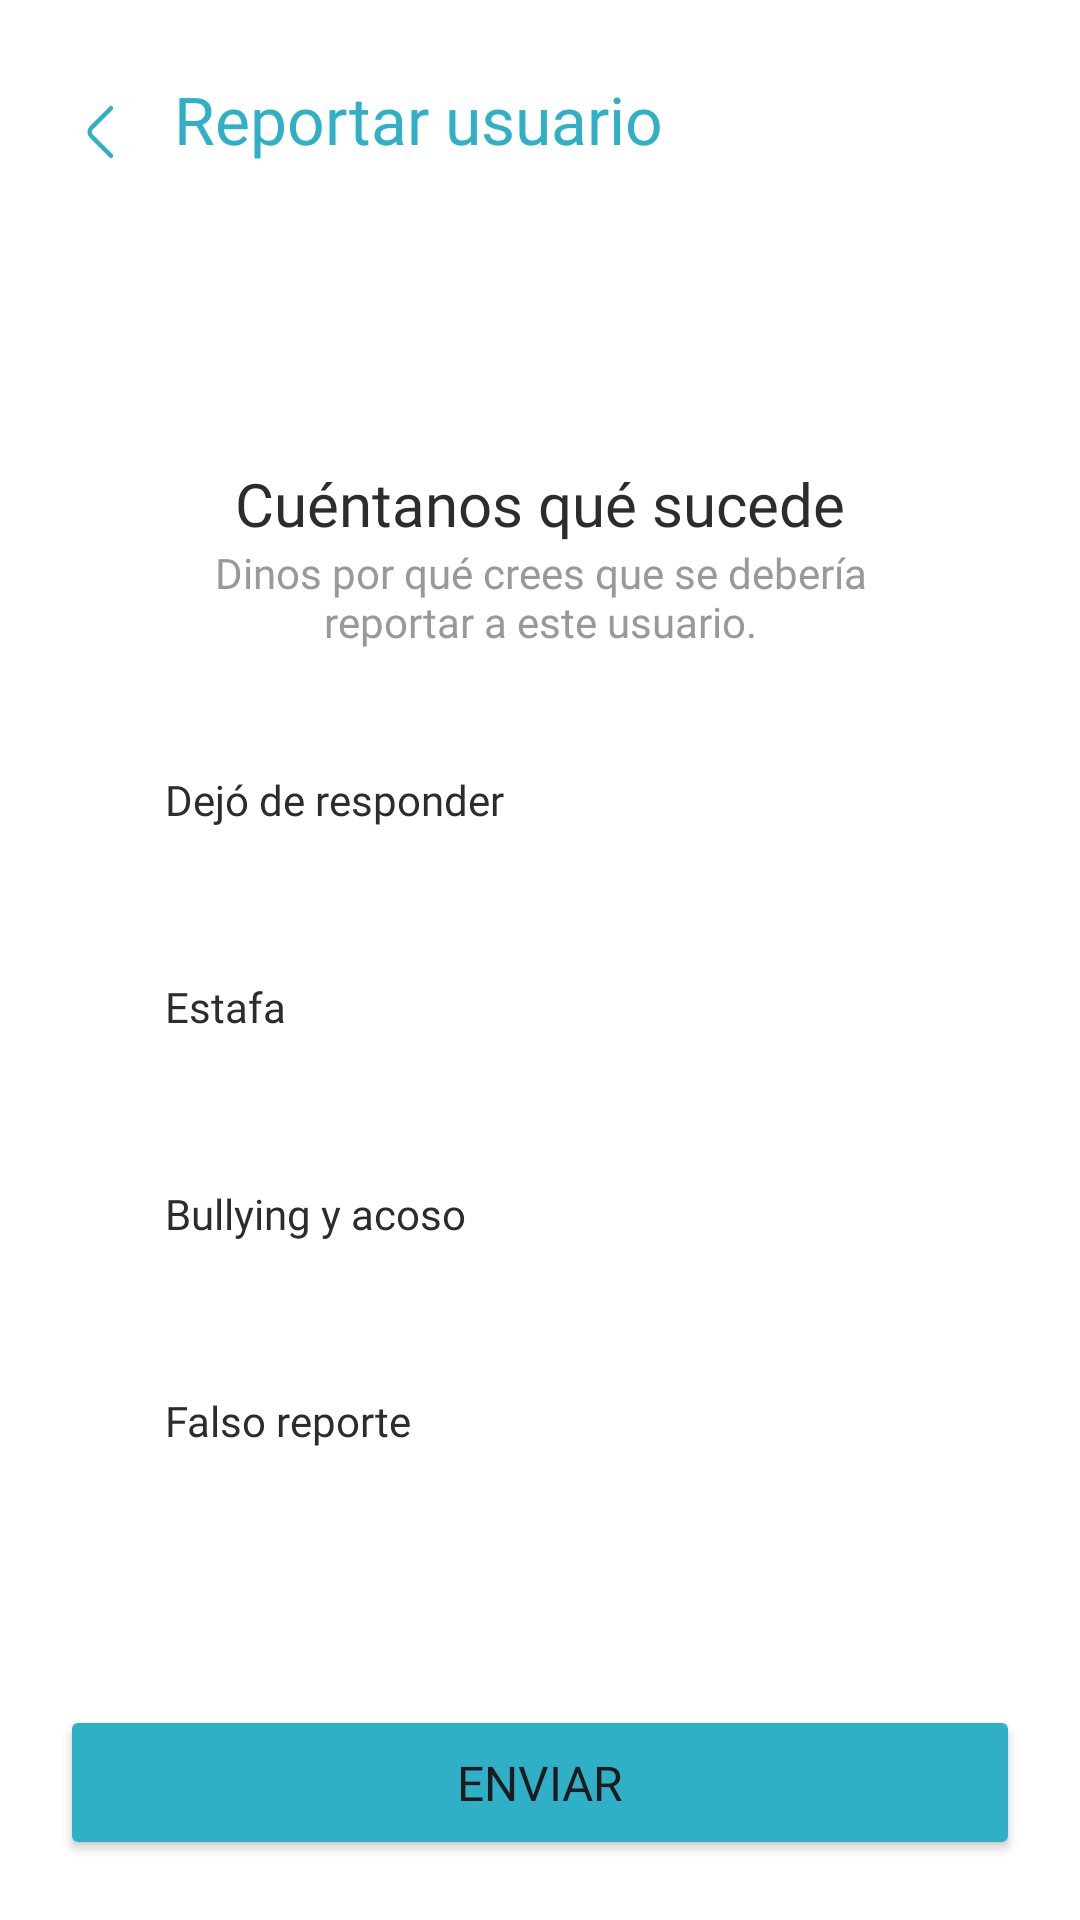

Point at icon controls on the screen. Image size 1080x1920, points as [x,y].
Botón para regresar: [100,132]
